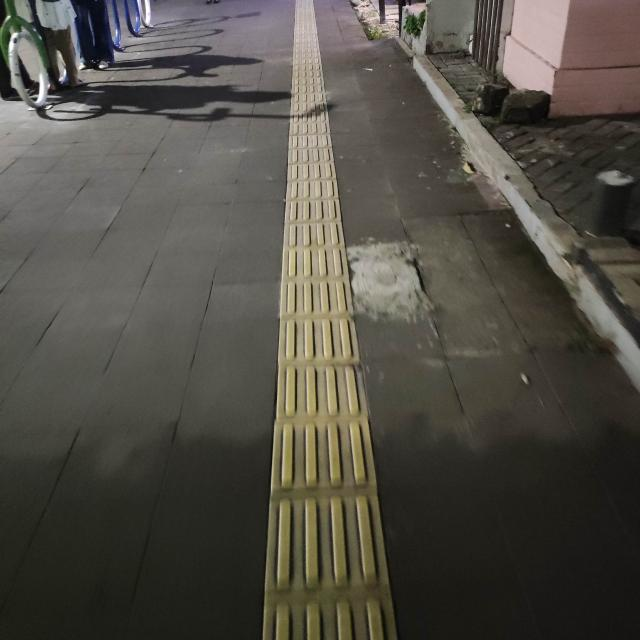lurus: (254, 15, 386, 640)
